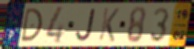3: (149, 7, 171, 43)
4: (45, 5, 66, 45)
8: (126, 5, 148, 44)
D: (19, 7, 44, 44)
J: (74, 7, 98, 43)
K: (97, 7, 121, 43)
